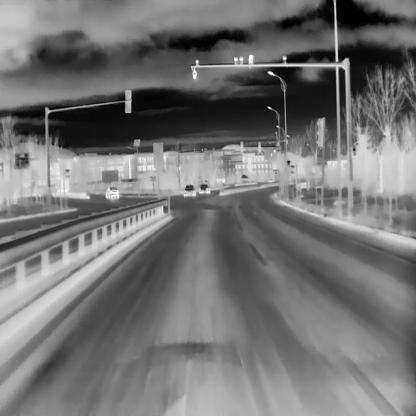car: (105, 186, 119, 198), (182, 184, 195, 196), (198, 183, 210, 193)
